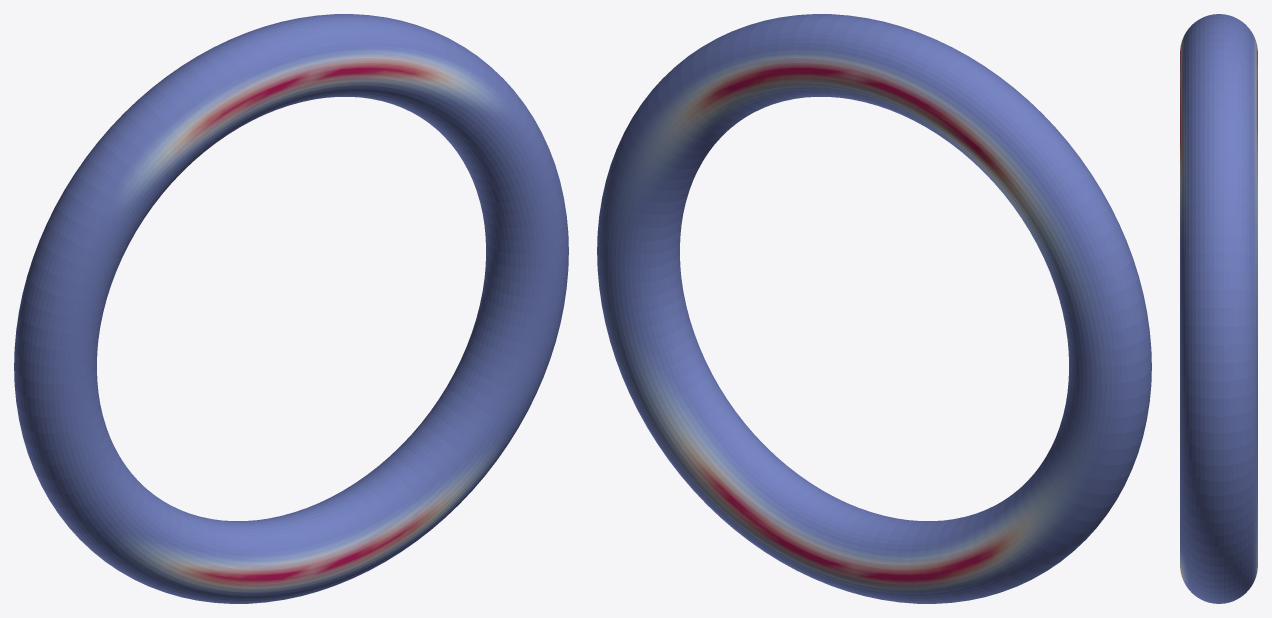
The picture shows the model from 3 angles, left to right: view 1: azimuth 30°, elevation 25°; view 2: azimuth 150°, elevation 25°; view 3: azimuth 270°, elevation 25°; orthographic projection. The views are drawn at different scales.
Parts seen in each view (by area): view 1: world; view 2: world; view 3: world.
Part boxes in pixels (box(x1,y1,x2,y2)): world: box(14, 14, 568, 603); world: box(597, 14, 1151, 603); world: box(1180, 14, 1257, 603).
Bounding box in the file's own units: 19.2 × 19.2 × 2.53.
